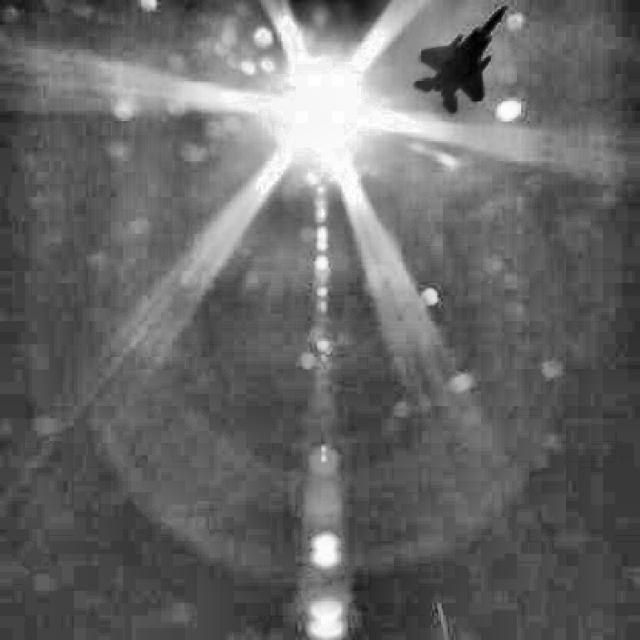F15: (414, 9, 508, 116)
